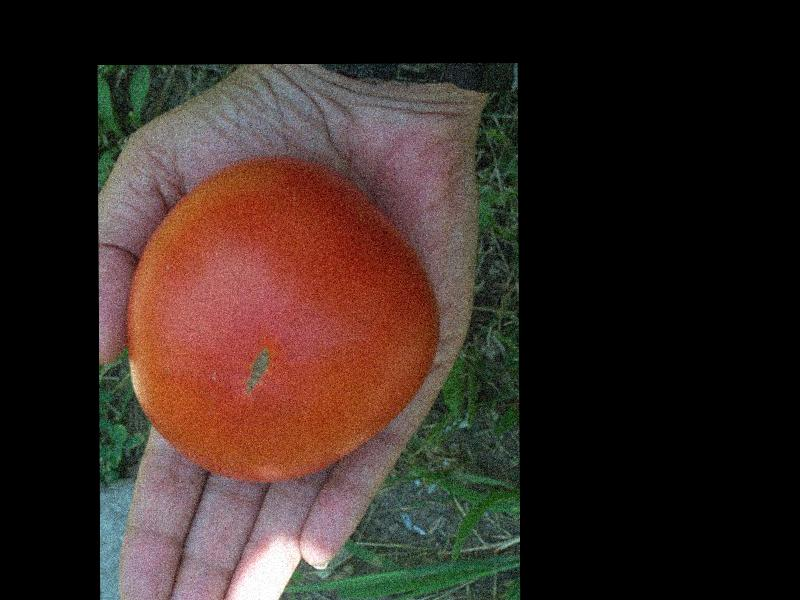Tomato: (126, 159, 440, 481)
